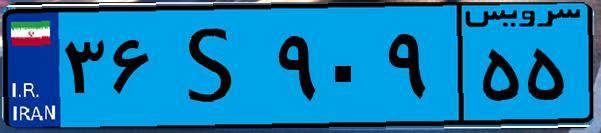0: (330, 28, 385, 110)
3: (57, 26, 110, 100)
5: (475, 38, 525, 113), (525, 38, 570, 115)
6: (110, 28, 158, 98)
9: (270, 28, 330, 110), (385, 28, 445, 110)
S: (158, 12, 270, 120)
